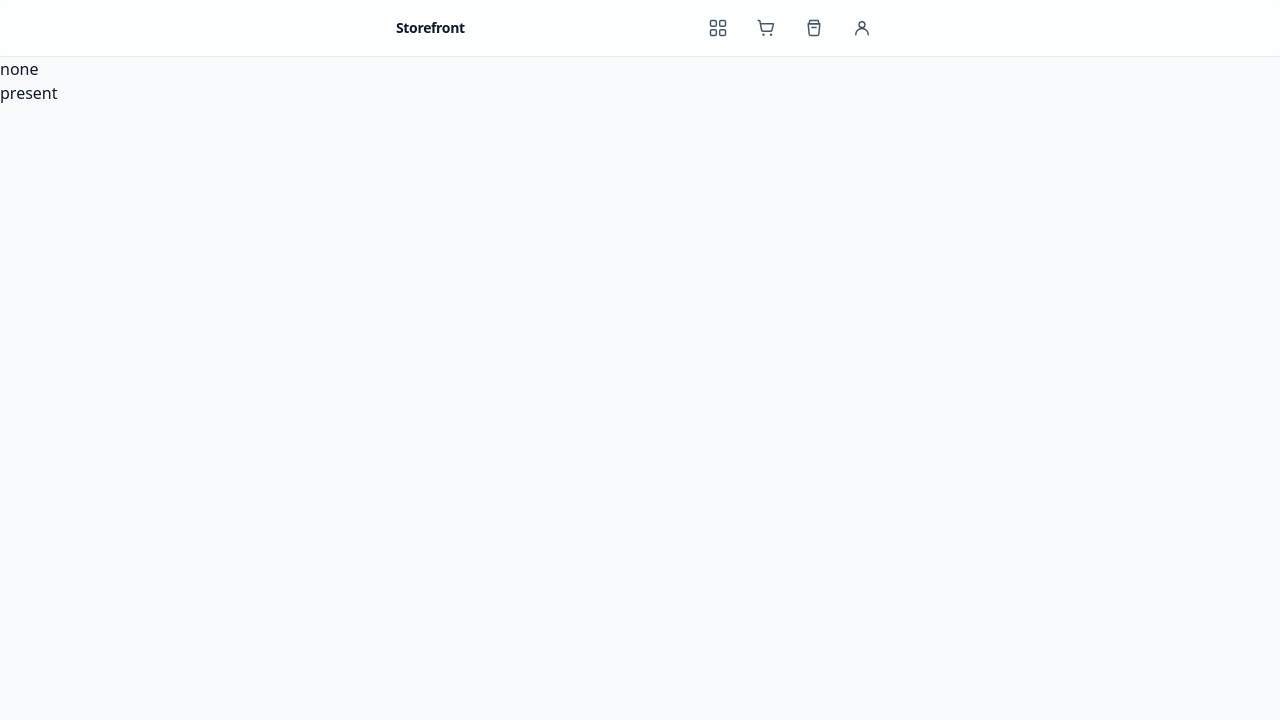
Test: ResetControl › shows a visible unexpected-response message for a status resolveErrorAction leaves unhandled (C13)
What coordinates should you click on to do the following:
click the button named "Profile"
I would click on:
 (862, 28)
Its box is [840,6,884,50].
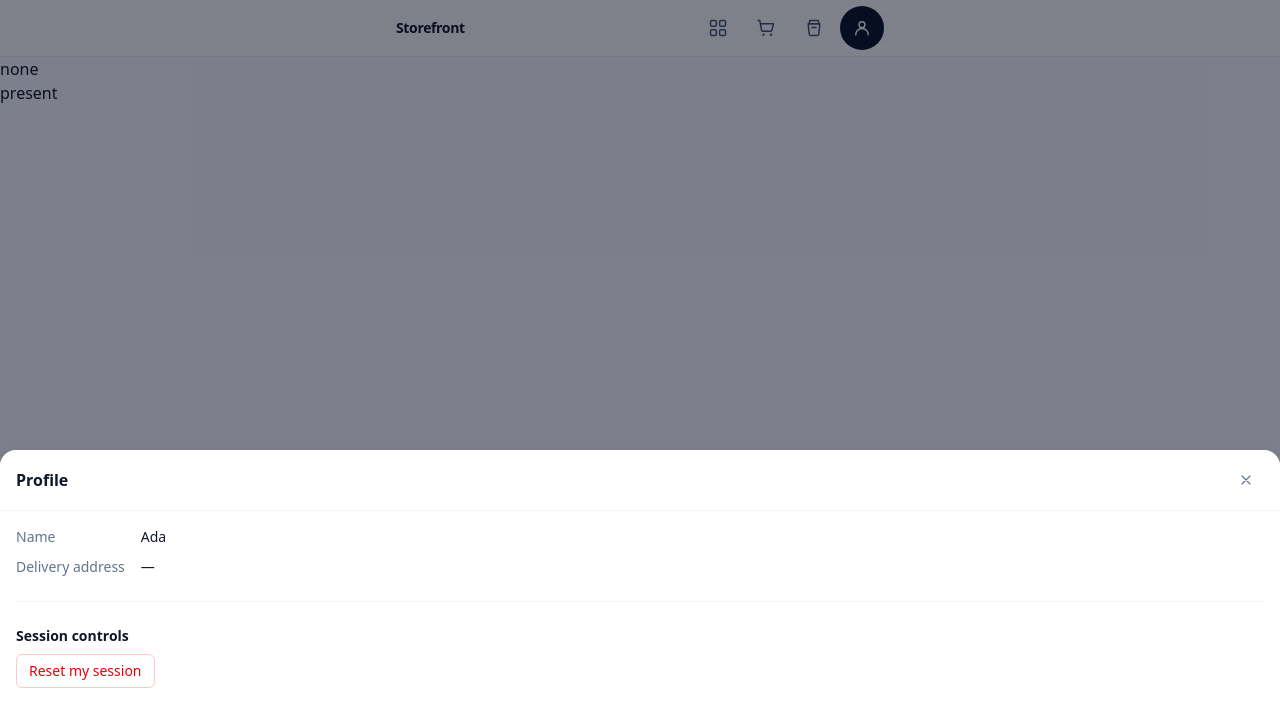
What coordinates should you click on to do the following:
click the button "Reset my session"
I would click on:
 (85, 671)
Its box is [16,654,154,688].
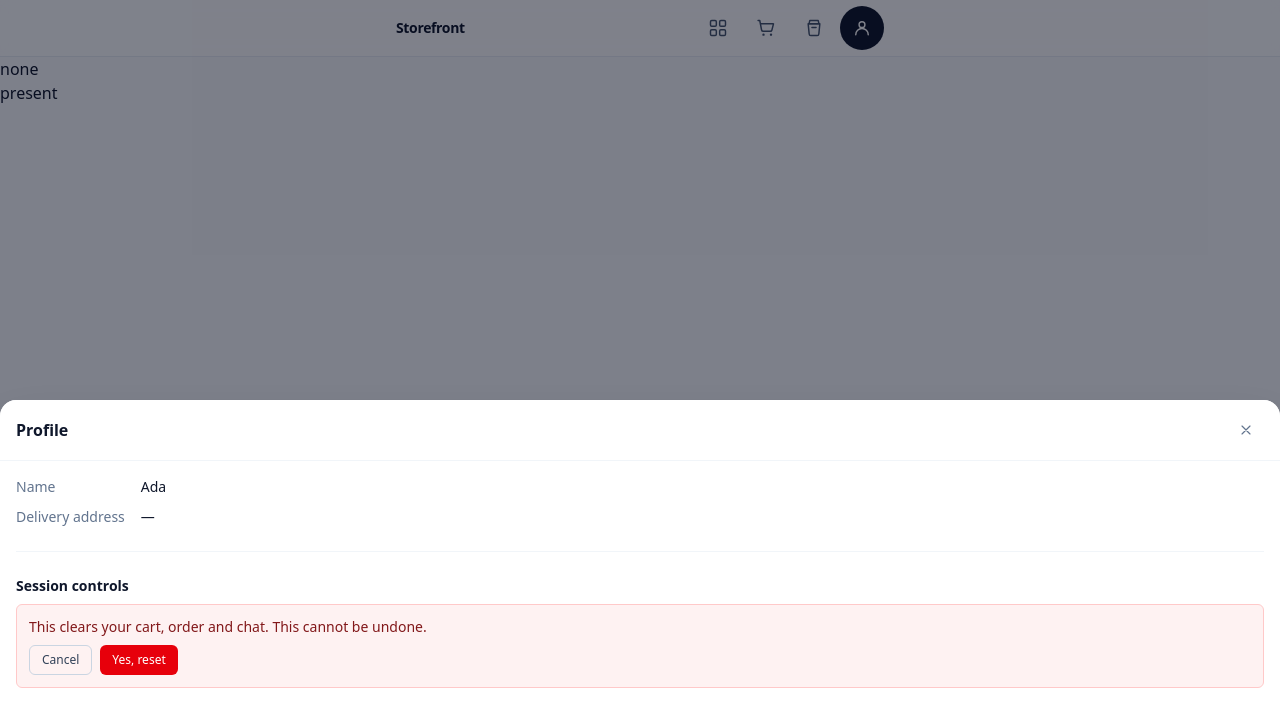
What coordinates should you click on to do the following:
click the button "Yes, reset"
I would click on:
 (139, 660)
Its box is [100,645,178,675].
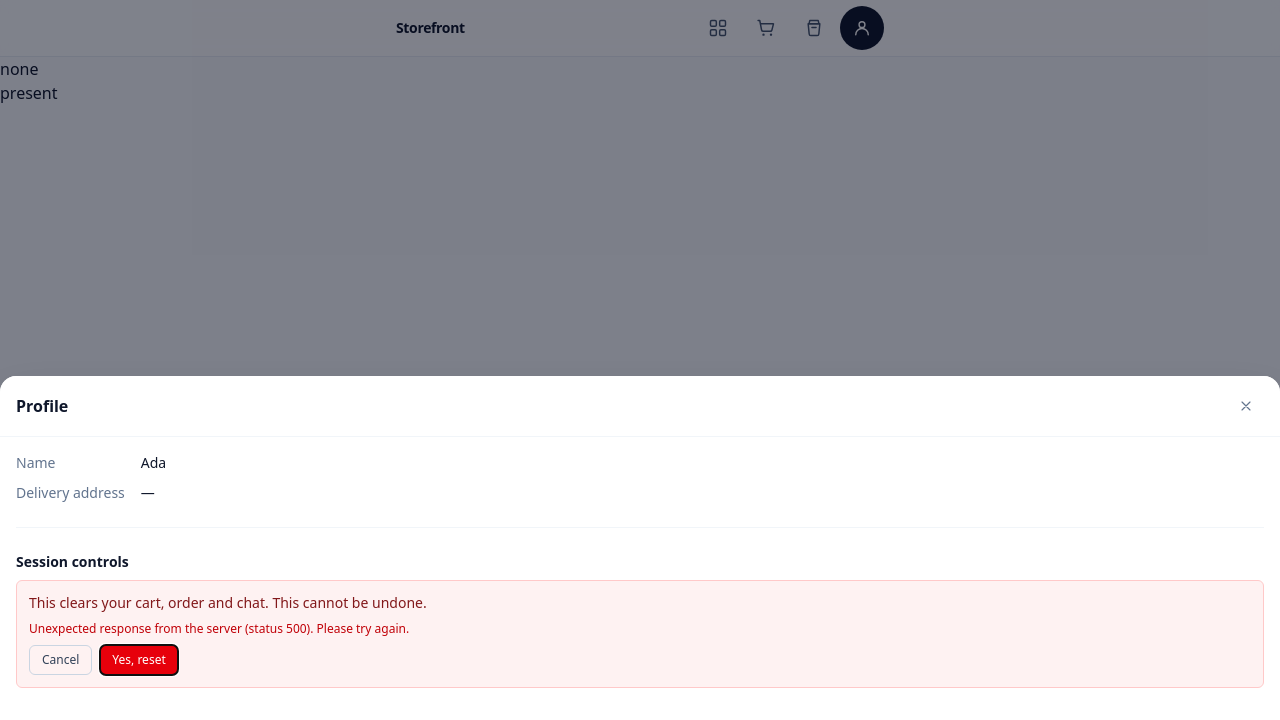
Result: the message shows "Unexpected response" at [29,620,409,637]
Result: the message shows "500" at [29,620,409,637]
